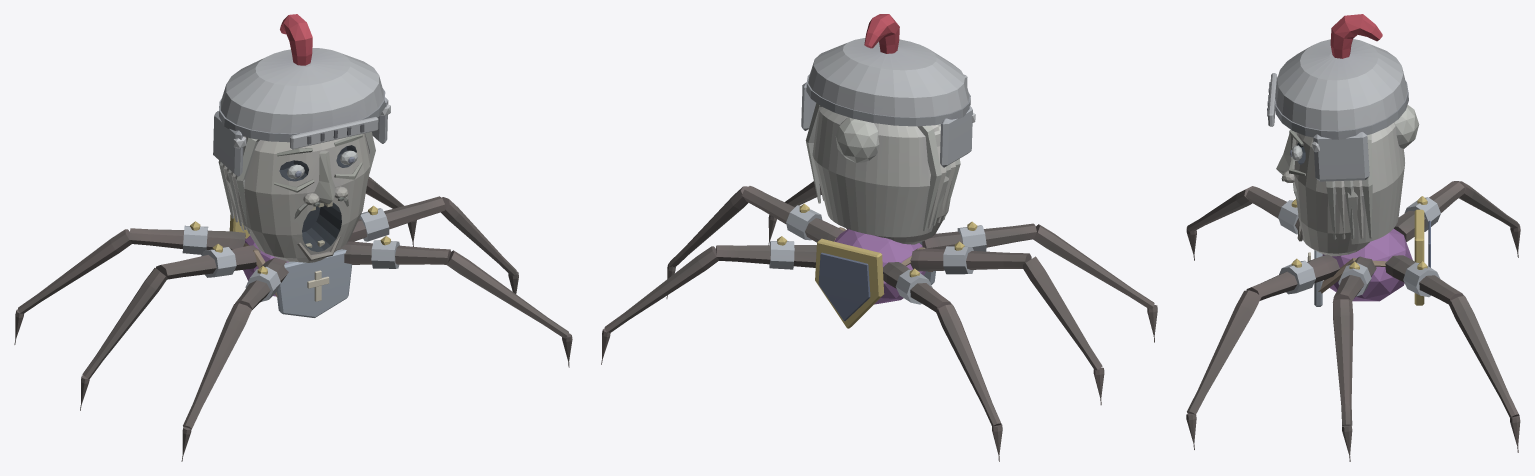
File: SpiderMomKnight.glb
3 renders of one model, left to right at view 1: azimuth 30°, elevation 25°; view 2: azimuth 150°, elevation 25°; view 3: azimuth 270°, elevation 25°, orthographic.
Visible parts, largest first — view 1: Head, Body, ArmL, LegR, ArmR, LegL; view 2: Head, Body, LegL, ArmR, LegR, ArmL; view 3: Head, Body, ArmL, LegL, LegR, ArmR.
Boxes of the visible parts, box(x1,y1,x2,y2) form: Head: box(213, 14, 390, 262); Body: box(80, 196, 518, 410); ArmL: box(338, 236, 572, 367); LegR: box(14, 221, 245, 344); ArmR: box(181, 257, 288, 461); LegL: box(365, 177, 416, 246); Head: box(801, 14, 975, 244); Body: box(666, 186, 1104, 405); LegL: box(601, 236, 816, 364); ArmR: box(922, 221, 1157, 342); LegR: box(883, 262, 1002, 461); ArmL: box(768, 181, 847, 245); Head: box(1267, 14, 1419, 256); Body: box(1307, 209, 1430, 461); ArmL: box(1186, 254, 1339, 449); LegL: box(1385, 255, 1520, 452); LegR: box(1394, 181, 1520, 257); ArmR: box(1186, 186, 1299, 260).
Bounding box in the file's own units: 6.21 × 4.61 × 4.11.
